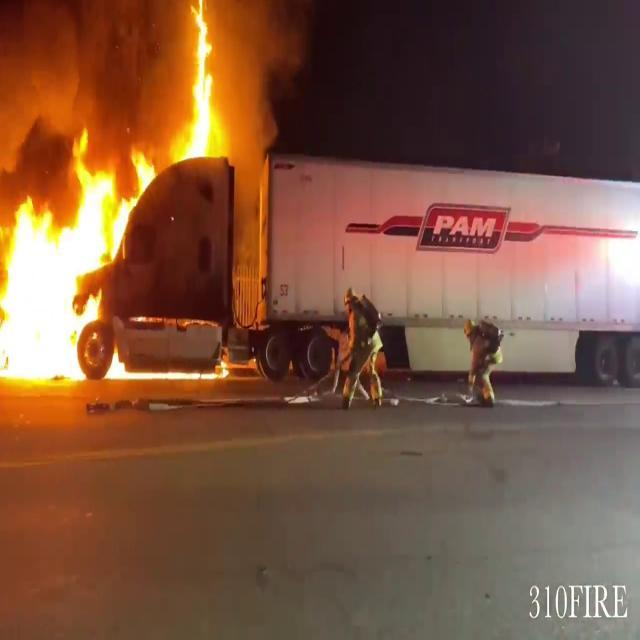Fire: (0, 124, 146, 390), (177, 1, 228, 168)
Smoke: (2, 0, 277, 202)
